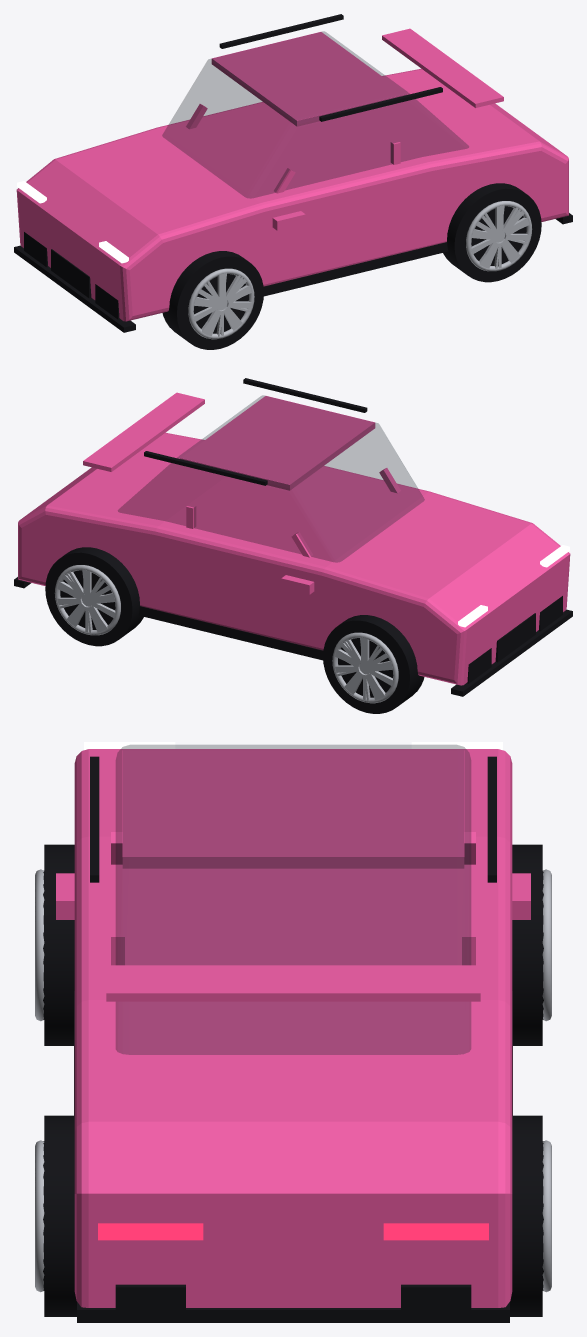
Rendered from urus.glb.
The picture shows the model from 3 angles, top to bottom: view 1: azimuth 30°, elevation 25°; view 2: azimuth 150°, elevation 25°; view 3: azimuth 270°, elevation 25°; orthographic projection. The views are drawn at different scales.
Parts seen in each view (by area): view 1: object 1, object 2, roof, object 50, object 122, object 177, object 12, object 167, object 52, object 124, object 166, object 175 (+6 smaller); view 2: object 1, object 2, roof, object 14, object 86, object 177, object 7, object 167, object 16, object 88, object 166, object 176 (+6 smaller); view 3: object 1, object 2, roof, object 177, object 86, object 122, object 14, object 50, object 168, object 161, object 165, object 159 (+9 smaller).
Part boxes in pixels (box(x1,y1,x2,y2)): object 1: box(16, 68, 568, 321); object 2: box(162, 31, 468, 198); roof: box(211, 32, 406, 126); object 50: box(162, 251, 263, 349); object 122: box(443, 183, 541, 282); object 177: box(382, 28, 503, 107); object 12: box(263, 242, 448, 296); object 167: box(14, 245, 135, 332); object 52: box(188, 268, 254, 339); object 124: box(466, 201, 532, 271); object 166: box(51, 249, 91, 298); object 175: box(219, 14, 343, 48); object 1: box(18, 432, 570, 685); object 2: box(118, 395, 424, 562); roof: box(180, 396, 375, 490); object 14: box(323, 615, 424, 713); object 86: box(45, 547, 143, 646); object 177: box(83, 392, 204, 471); object 7: box(138, 606, 323, 660); object 167: box(451, 609, 572, 696); object 16: box(332, 632, 398, 703); object 88: box(54, 565, 120, 635); object 166: box(495, 613, 535, 662); object 176: box(243, 378, 367, 412); object 1: box(74, 749, 512, 1307); object 2: box(116, 745, 470, 1054); roof: box(122, 750, 464, 868); object 177: box(106, 965, 480, 1001); object 86: box(510, 1115, 542, 1316); object 122: box(44, 1115, 76, 1316); object 14: box(512, 844, 542, 1045); object 50: box(44, 844, 74, 1045); object 168: box(77, 1302, 509, 1322); object 161: box(401, 1284, 471, 1316); object 165: box(115, 1284, 185, 1316); object 159: box(383, 1223, 488, 1240).
Size of the model in its own units: 4.45 by 1.84 by 2.21.
